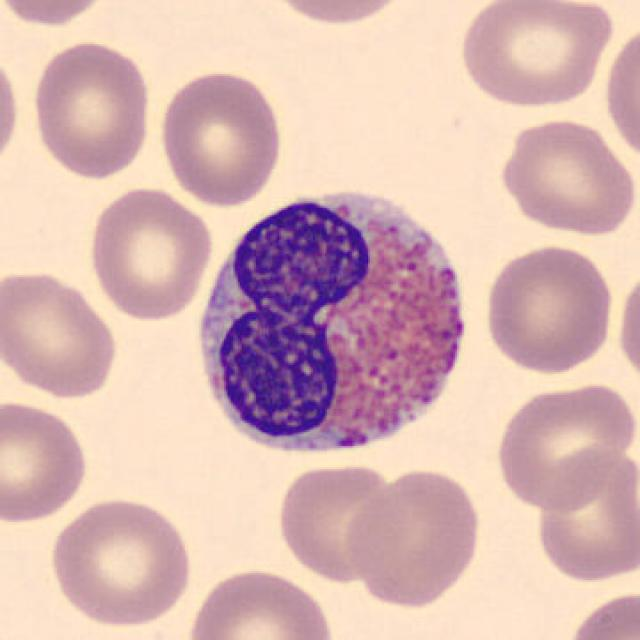Eosinophil: (183, 173, 484, 472)
RBC: (342, 464, 486, 610), (44, 494, 196, 630), (491, 379, 638, 513), (480, 240, 617, 376), (155, 67, 286, 208), (27, 37, 154, 182), (84, 183, 215, 323), (455, 0, 617, 111), (272, 460, 411, 586), (494, 115, 636, 238), (0, 264, 121, 402), (532, 443, 638, 587), (0, 396, 92, 525), (183, 564, 338, 640), (601, 19, 640, 168), (256, 0, 416, 28), (562, 587, 640, 640), (0, 0, 116, 30), (613, 262, 640, 390), (0, 44, 23, 175)
